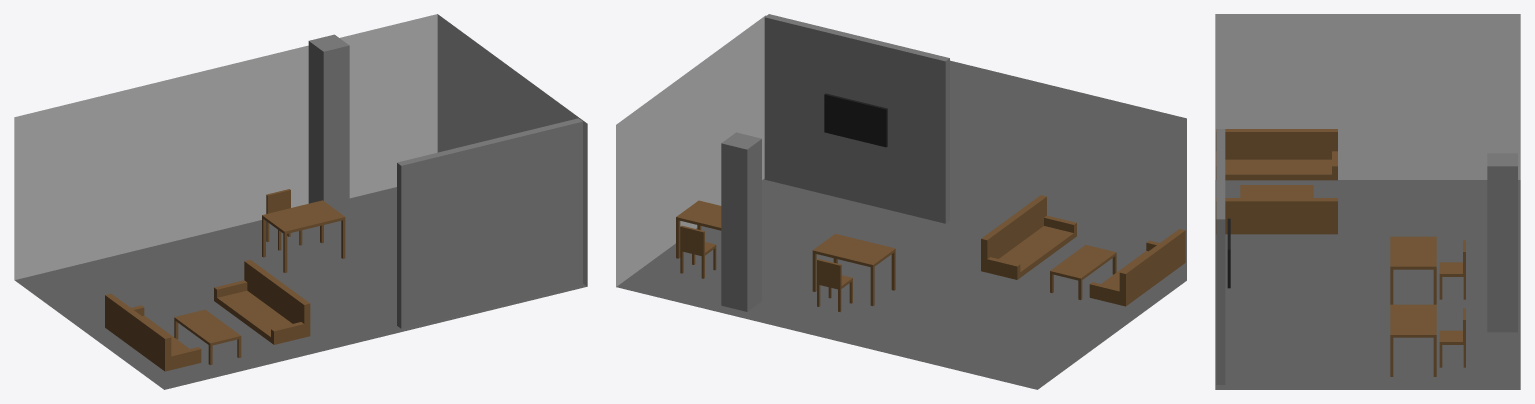
Rendered from room1.glb.
3 renders of one model, left to right at view 1: azimuth 30°, elevation 25°; view 2: azimuth 150°, elevation 25°; view 3: azimuth 270°, elevation 25°, orthographic. The views are drawn at different scales.
Visible parts, largest first — view 1: walls, floor, partition_a, Sofa, pillar_zone1, TableChair; view 2: walls, floor, partition_a, Sofa, pillar_zone1, TableChair, led_tv; view 3: floor, walls, Sofa, pillar_zone1, TableChair, partition_a, led_tv.
Boxes of the visible parts, x1,y1,x2,y2 form: walls: [14, 14, 587, 286]; floor: [15, 187, 587, 389]; partition_a: [397, 118, 582, 328]; Sofa: [105, 259, 310, 371]; pillar_zone1: [308, 34, 349, 211]; TableChair: [262, 189, 345, 272]; walls: [616, 15, 1186, 286]; floor: [616, 178, 1186, 389]; partition_a: [764, 14, 949, 223]; Sofa: [981, 195, 1185, 306]; pillar_zone1: [721, 132, 761, 311]; TableChair: [676, 200, 895, 311]; led_tv: [824, 93, 887, 147]; floor: [1215, 180, 1520, 389]; walls: [1215, 14, 1520, 179]; Sofa: [1216, 129, 1337, 234]; pillar_zone1: [1487, 153, 1517, 332]; TableChair: [1390, 236, 1465, 376]; partition_a: [1216, 129, 1225, 384]; led_tv: [1227, 218, 1230, 288].
Bounding box in the file's own units: 8.15 × 3.11 × 5.
